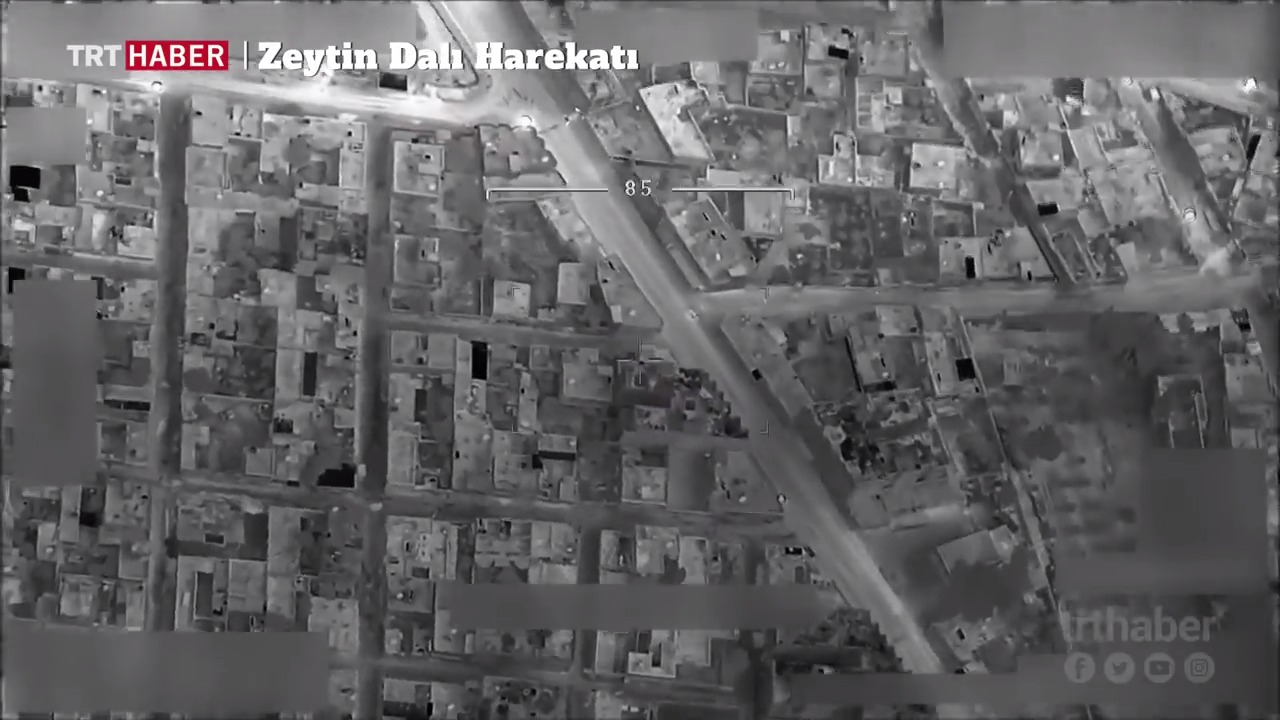bina: (381, 128, 456, 206)
